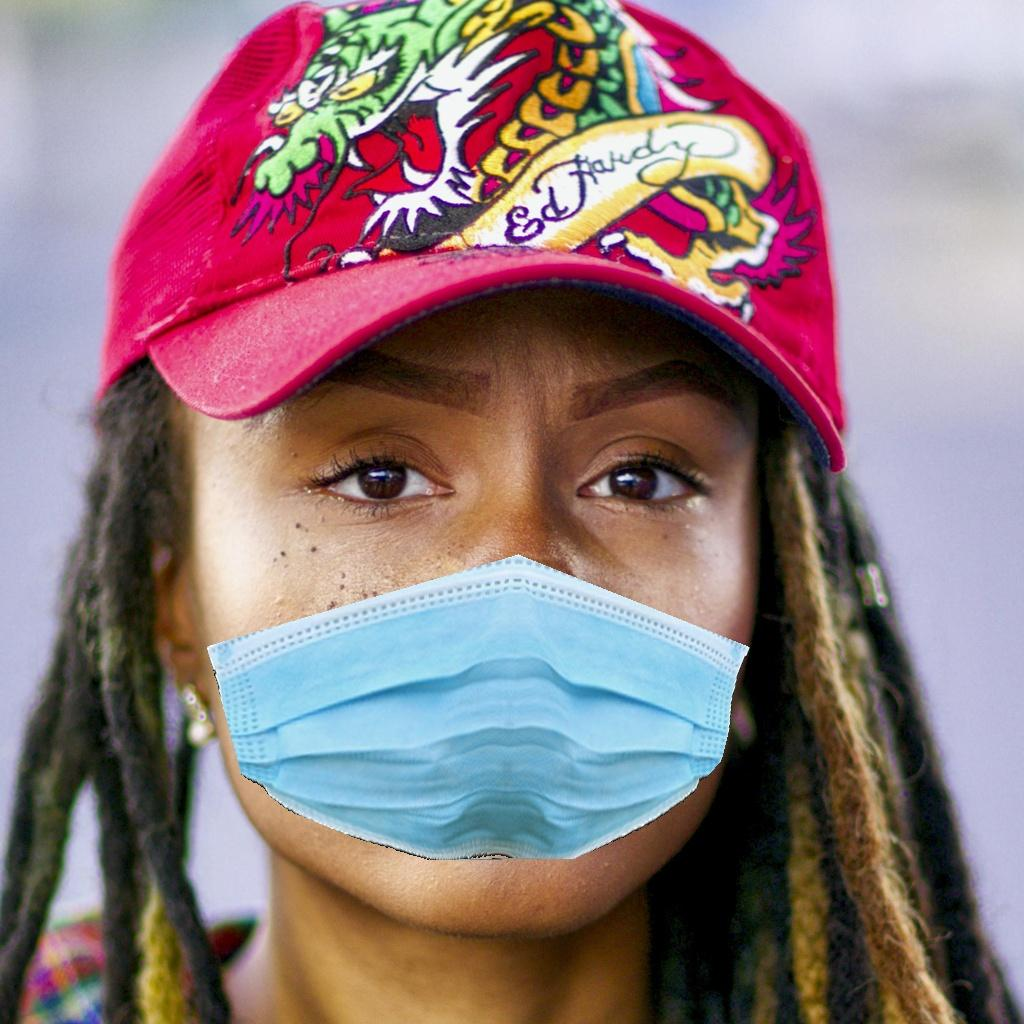Com Máscara: (221, 323, 718, 909)
